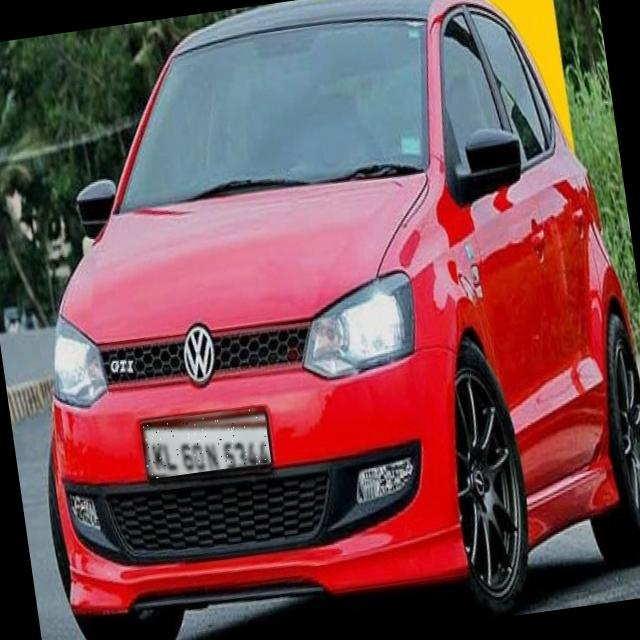Plate: (141, 408, 273, 481)
